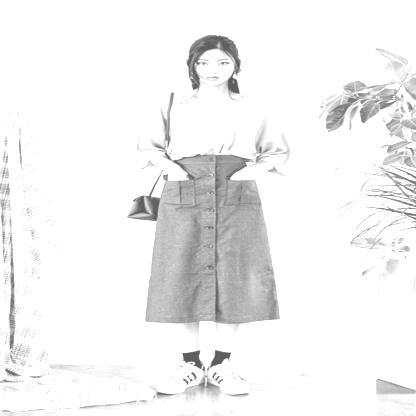dress: (136, 153, 286, 325), (139, 85, 289, 176)
